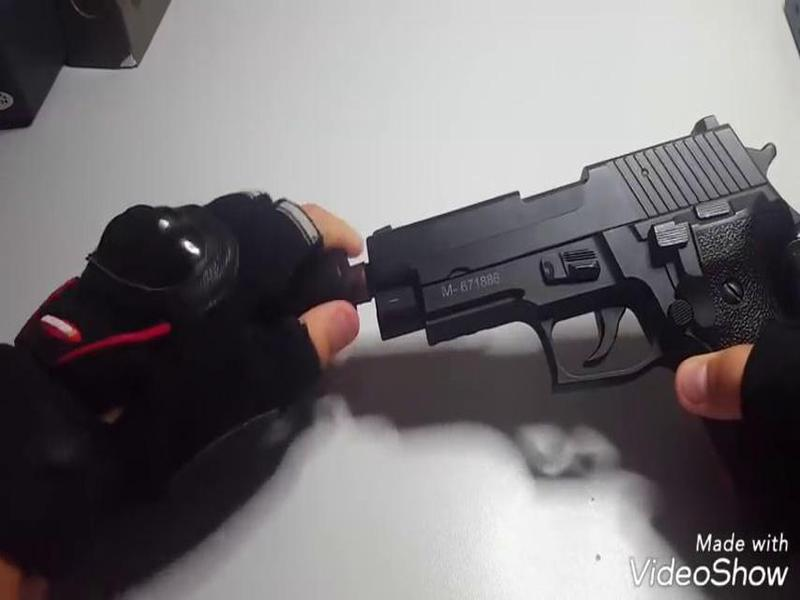Pistola: (345, 105, 800, 393)
